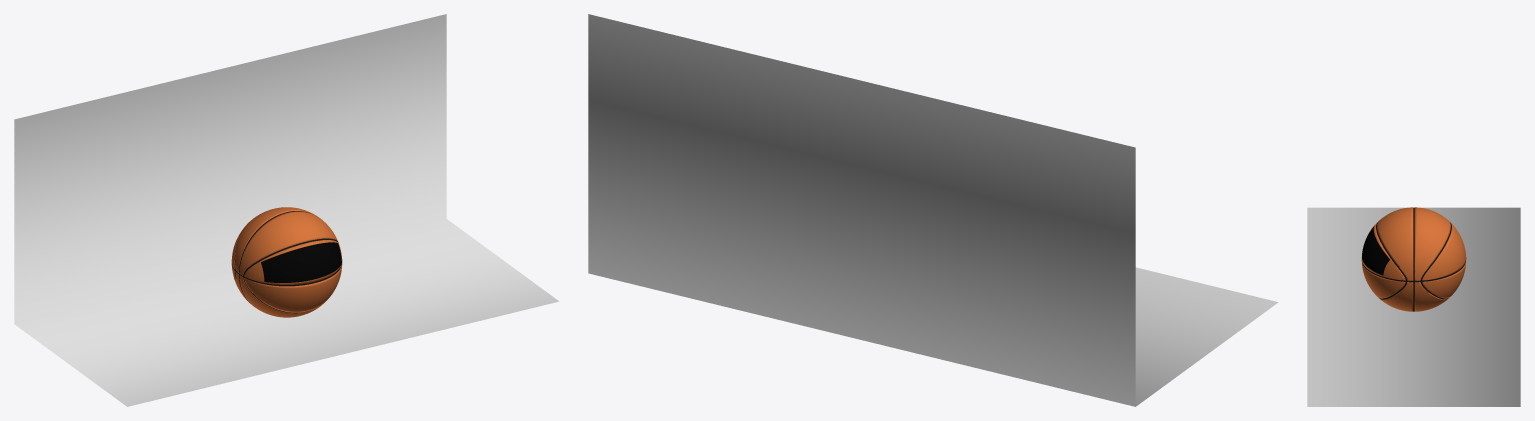
The model's file is basketball.fbx.
3 views of the same model, side by side, from view 1: azimuth 30°, elevation 25°; view 2: azimuth 150°, elevation 25°; view 3: azimuth 270°, elevation 25° (orthographic). The views are drawn at different scales.
Visible parts, largest first — view 1: Cube, basketball; view 2: Cube; view 3: Cube, basketball.
Boxes of the visible parts, x1,y1,x2,y2 form: Cube: (14, 14, 559, 406); basketball: (231, 207, 342, 317); Cube: (588, 14, 1278, 406); Cube: (1307, 207, 1520, 406); basketball: (1361, 207, 1466, 311).
Bounding box in the file's own units: 903 × 409 × 409.
